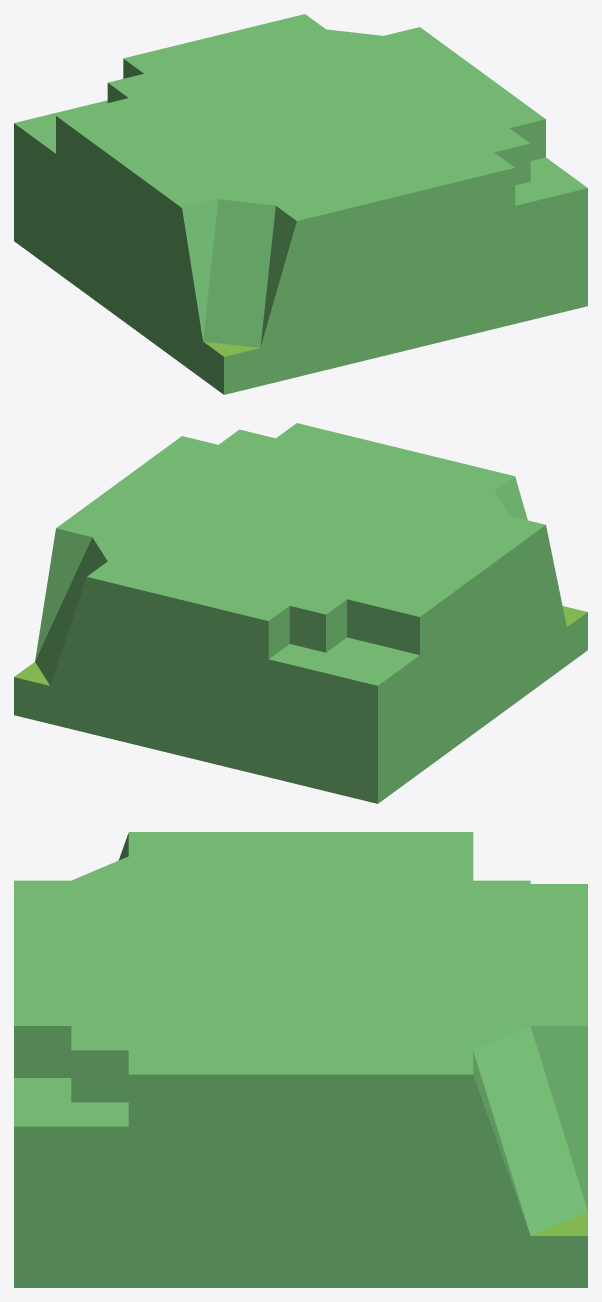
The model's file is x_zem_1_12_1_rmstrd.fbx.
3 views of the same model, one above another, from view 1: azimuth 30°, elevation 25°; view 2: azimuth 150°, elevation 25°; view 3: azimuth 270°, elevation 25° (orthographic). The views are drawn at different scales.
Parts seen in each view (by area): view 1: x_zem_1_12_1_rmstrd1; view 2: x_zem_1_12_1_rmstrd1; view 3: x_zem_1_12_1_rmstrd1.
Part boxes in pixels (bbox=[...]): x_zem_1_12_1_rmstrd1: bbox=[14, 14, 587, 394]; x_zem_1_12_1_rmstrd1: bbox=[14, 423, 587, 803]; x_zem_1_12_1_rmstrd1: bbox=[14, 832, 587, 1287].
Size of the model in its own units: 10 by 4.1 by 10.
